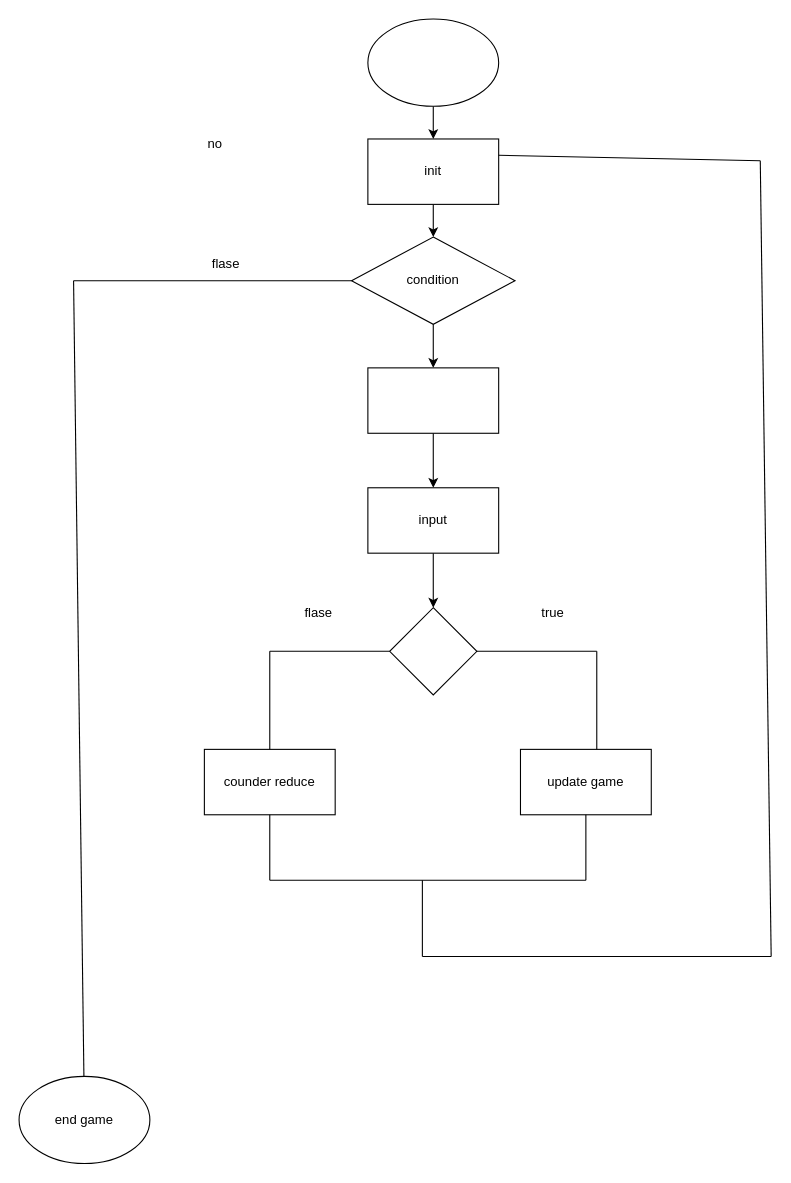
This 791x1183 diagram has some shape labels left out. Each missing label, with the centre of its shape:
"check" goes at point 433,651.
"print" goes at point 433,400.
"start" goes at point 433,62.
